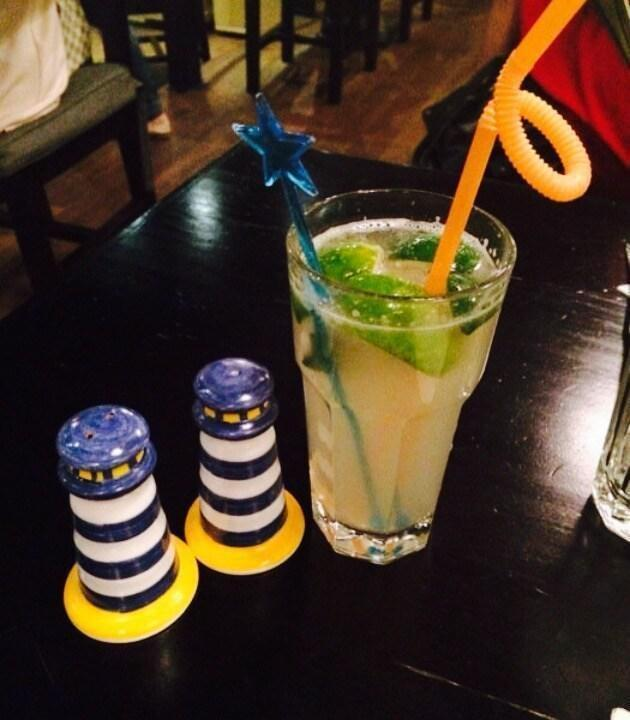glass-normal: (282, 186, 518, 565)
